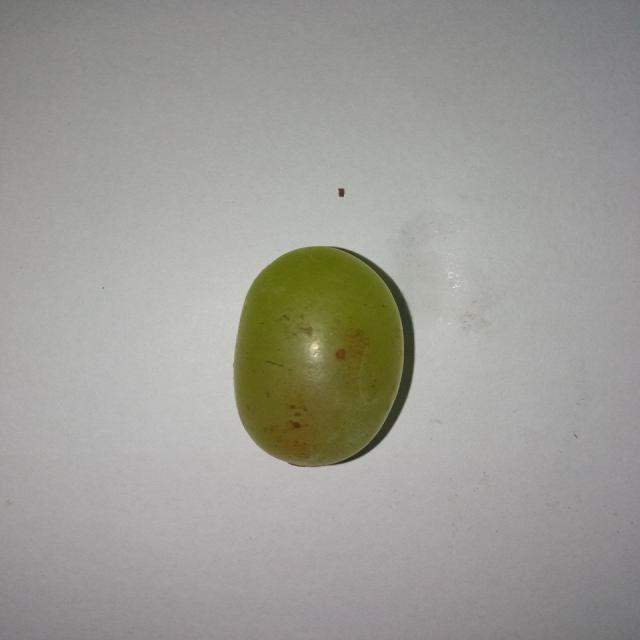fresh_grape: (237, 251, 399, 463)
